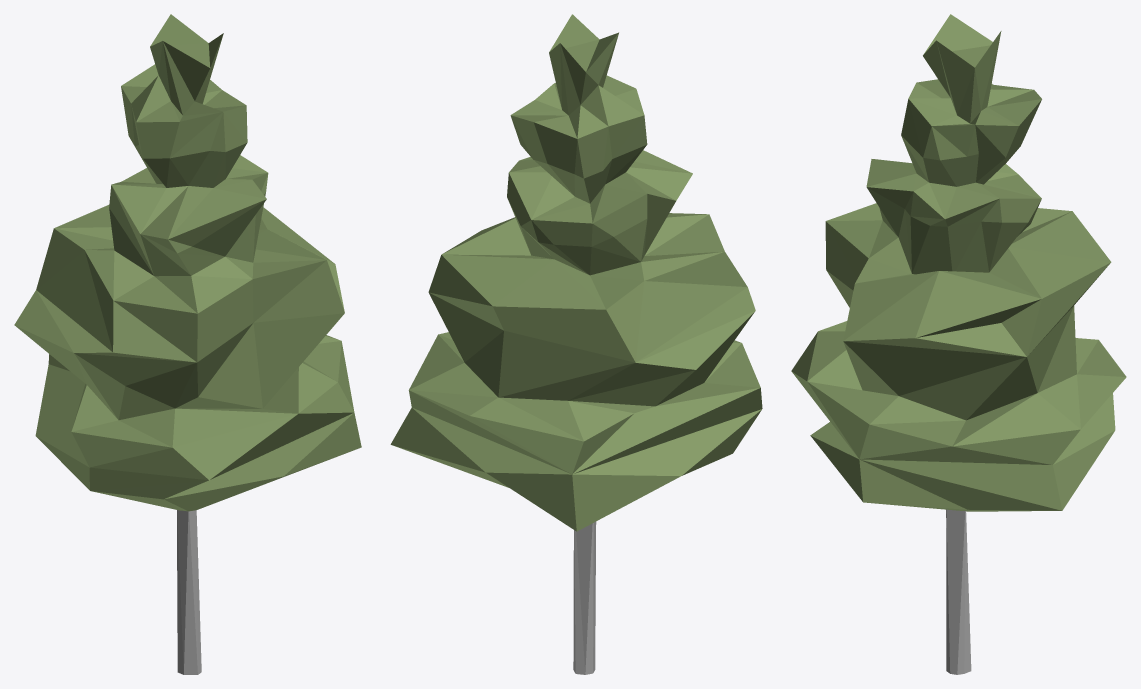
File: P_Tree_pine_8meters.FBX
3 views of the same model, side by side, from view 1: azimuth 30°, elevation 25°; view 2: azimuth 150°, elevation 25°; view 3: azimuth 270°, elevation 25° (orthographic).
Visible parts, largest first — view 1: P_Tree_pine_8meters_LOD0; view 2: P_Tree_pine_8meters_LOD0; view 3: P_Tree_pine_8meters_LOD0.
Boxes of the visible parts, x1=… form: P_Tree_pine_8meters_LOD0: x1=14, y1=14, x2=361, y2=674; P_Tree_pine_8meters_LOD0: x1=390, y1=14, x2=762, y2=674; P_Tree_pine_8meters_LOD0: x1=791, y1=14, x2=1126, y2=674.
Size of what is drawn, in the model's own units: 3.98 by 8.22 by 3.9.
